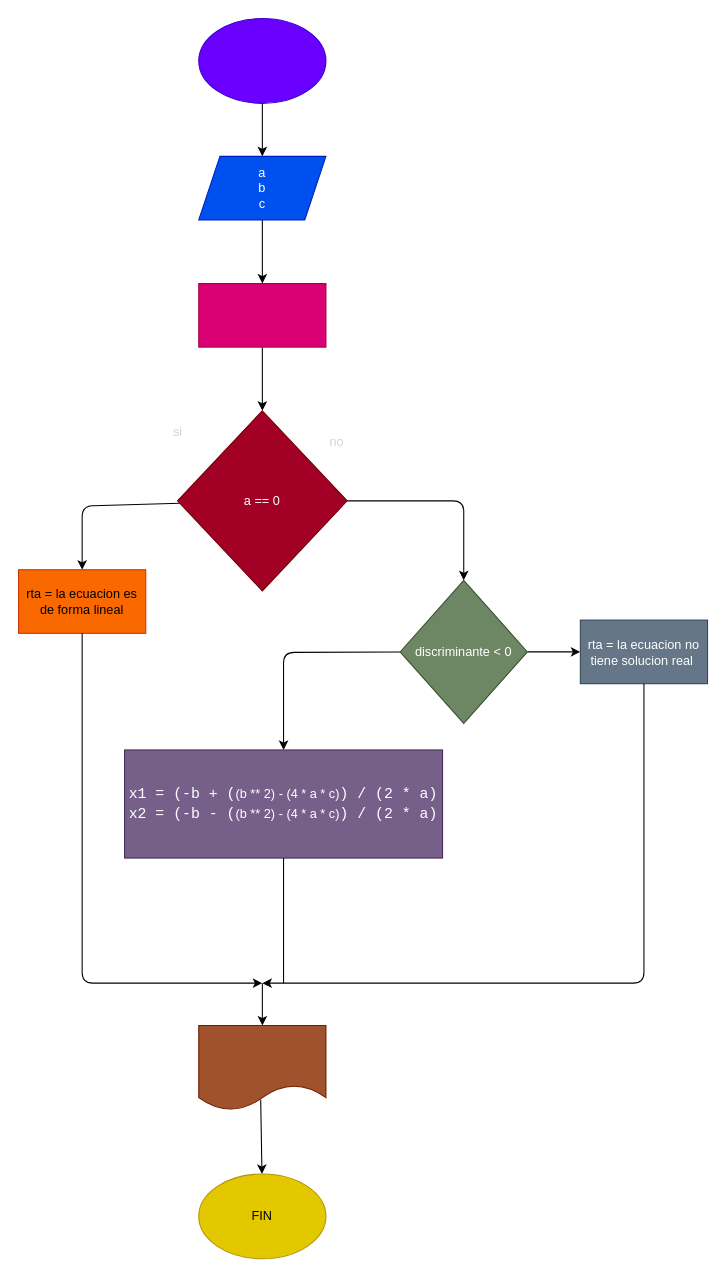
Some shapes in this 726 by 1277 pixel diagram are drawn without their labels. Here are the shapes that lost their labels. From the top down, the centre of each, then its label:
point 262,60: INICIO
point 262,314: discriminante = (b ** 2) - (4 * a * c)
point 262,1067: rta
